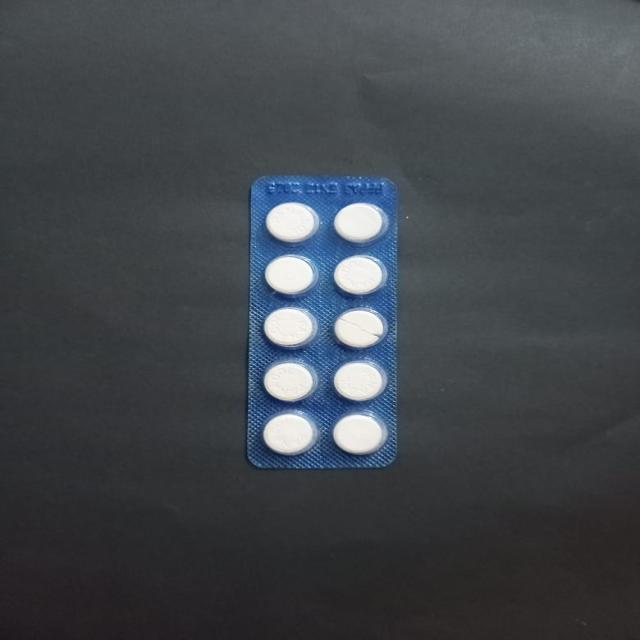defect: (330, 306, 390, 350)
